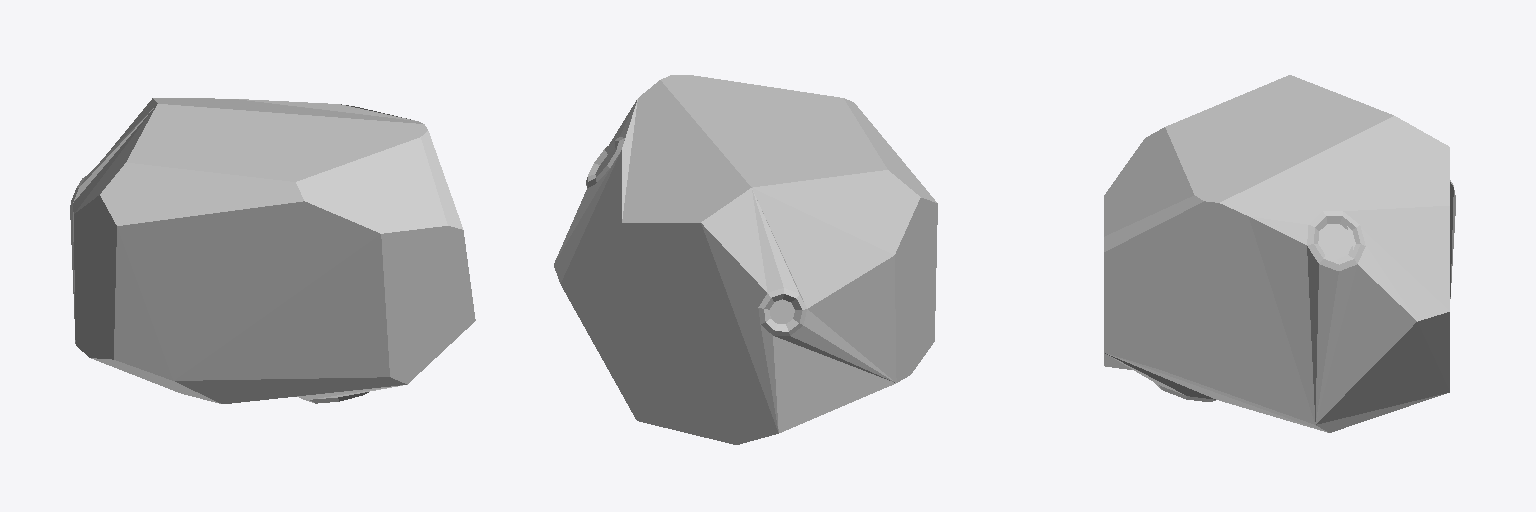
The model's file is Asteorid2.obj.
The picture shows the model from 3 angles: view 1: azimuth 30°, elevation 25°; view 2: azimuth 150°, elevation 25°; view 3: azimuth 270°, elevation 25°; orthographic projection.
Visible parts, largest first — view 1: Asteroid_2_Würfel.003; view 2: Asteroid_2_Würfel.003; view 3: Asteroid_2_Würfel.003.
Part boxes in pixels (bbox=[...]): Asteroid_2_Würfel.003: bbox=[70, 98, 475, 403]; Asteroid_2_Würfel.003: bbox=[554, 75, 937, 444]; Asteroid_2_Würfel.003: bbox=[1104, 75, 1455, 432].
Bounding box in the file's own units: 6.67 × 4.97 × 6.6.